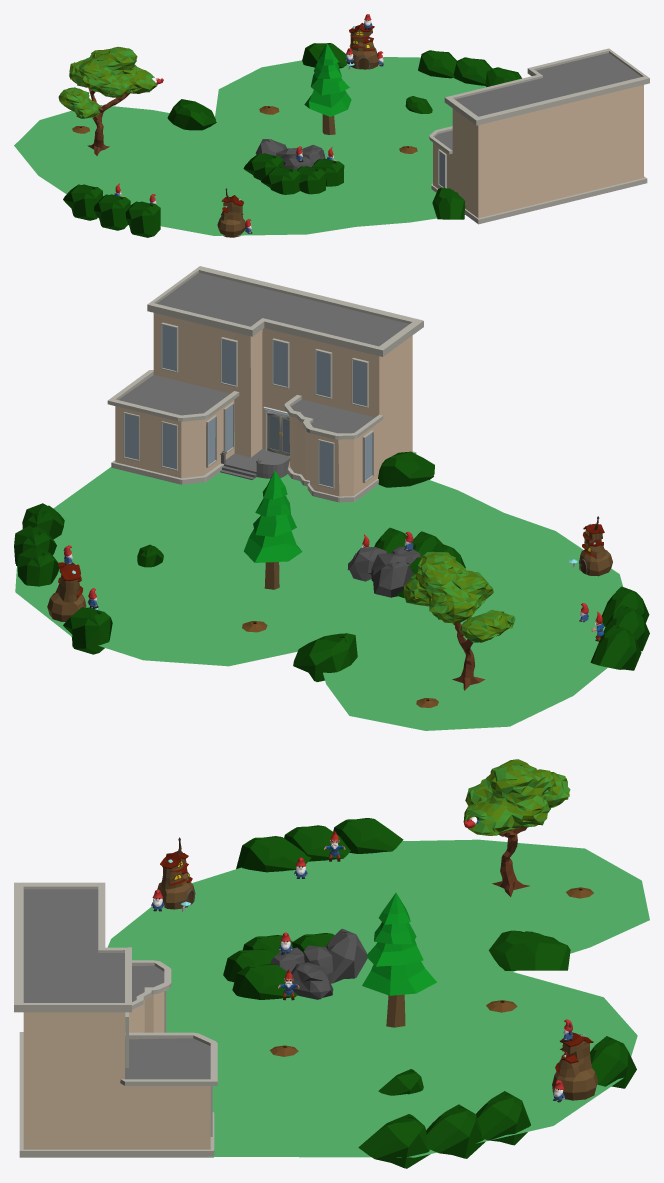
The model's file is Level design test MediumMediumlevel.fbx.
The picture shows the model from 3 angles, top to bottom: view 1: azimuth 30°, elevation 25°; view 2: azimuth 150°, elevation 25°; view 3: azimuth 270°, elevation 25°; orthographic projection. The views are drawn at different scales.
Visible parts, largest first — view 1: Plane.002, House_large, TreeBase.004, Cone.001, medium_Rock_1.027, Gnome_House.001, medium_Rock_1.018, medium_Rock_1.019, medium_Rock_1.020, Gnome_House, medium_Rock_1.024, medium_Rock_1.028 (+9 smaller); view 2: Plane.002, House_large, TreeBase.004, Cone.001, medium_Rock_1.027, medium_Rock_1.021, medium_Rock_1.020, medium_Rock_1.028, Gnome_House.001, Gnome_House, medium_Rock_1.024, medium_Rock_1.012 (+5 smaller); view 3: Plane.002, House_large, TreeBase.004, Cone.001, medium_Rock_1.027, medium_Rock_1.023, medium_Rock_1.022, Gnome_House.001, medium_Rock_1.024, medium_Rock_1.018, medium_Rock_1.020, medium_Rock_1.021 (+8 smaller).
Boxes of the visible parts, x1=… form: Plane.002: x1=14, y1=57, x2=486, y2=235; House_large: x1=429, y1=48, x2=649, y2=224; TreeBase.004: x1=58, y1=46, x2=157, y2=155; Cone.001: x1=304, y1=43, x2=351, y2=134; medium_Rock_1.027: x1=167, y1=99, x2=216, y2=130; Gnome_House.001: x1=347, y1=14, x2=378, y2=69; medium_Rock_1.018: x1=125, y1=201, x2=160, y2=237; medium_Rock_1.019: x1=94, y1=194, x2=130, y2=230; medium_Rock_1.020: x1=63, y1=184, x2=102, y2=220; Gnome_House: x1=217, y1=188, x2=245, y2=237; medium_Rock_1.024: x1=418, y1=50, x2=456, y2=78; medium_Rock_1.028: x1=432, y1=187, x2=465, y2=219; Plane.002: x1=15, y1=433, x2=622, y2=730; House_large: x1=107, y1=266, x2=423, y2=502; TreeBase.004: x1=403, y1=551, x2=515, y2=690; Cone.001: x1=243, y1=470, x2=302, y2=589; medium_Rock_1.027: x1=293, y1=633, x2=357, y2=681; medium_Rock_1.021: x1=63, y1=607, x2=112, y2=654; medium_Rock_1.020: x1=590, y1=625, x2=641, y2=670; medium_Rock_1.028: x1=378, y1=451, x2=434, y2=487; Gnome_House.001: x1=47, y1=547, x2=97, y2=621; Gnome_House: x1=569, y1=516, x2=612, y2=576; medium_Rock_1.024: x1=16, y1=546, x2=59, y2=586; medium_Rock_1.012: x1=372, y1=561, x2=413, y2=597; Plane.002: x1=107, y1=839, x2=649, y2=1157; House_large: x1=14, y1=882, x2=217, y2=1157; TreeBase.004: x1=463, y1=759, x2=570, y2=896; Cone.001: x1=362, y1=893, x2=436, y2=1027; medium_Rock_1.027: x1=488, y1=930, x2=570, y2=970; medium_Rock_1.023: x1=358, y1=1114, x2=430, y2=1168; medium_Rock_1.022: x1=426, y1=1104, x2=485, y2=1158; Gnome_House.001: x1=552, y1=1023, x2=597, y2=1100; medium_Rock_1.024: x1=476, y1=1091, x2=530, y2=1145; medium_Rock_1.018: x1=236, y1=836, x2=311, y2=872; medium_Rock_1.020: x1=333, y1=818, x2=403, y2=853; medium_Rock_1.021: x1=590, y1=1036, x2=636, y2=1088.
Size of the model in its own units: 14617 by 3579 by 12077.
